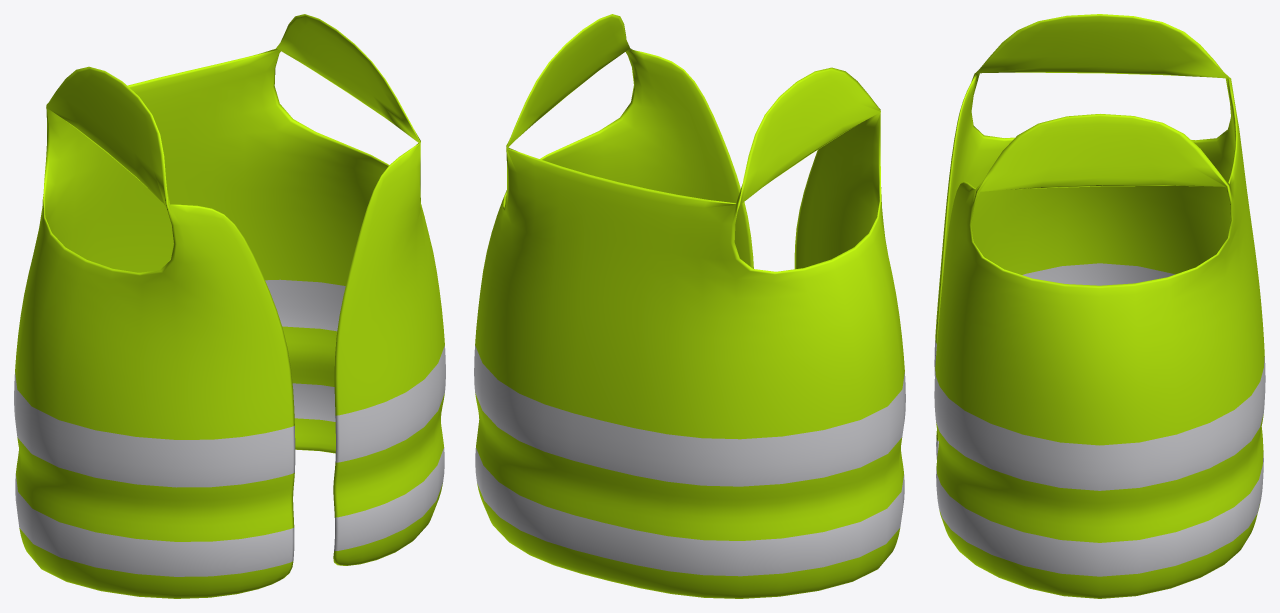
The model's file is chalecoReflejante.obj.
3 renders of one model, left to right at view 1: azimuth 30°, elevation 25°; view 2: azimuth 150°, elevation 25°; view 3: azimuth 270°, elevation 25°, orthographic. The views are drawn at different scales.
Visible parts, largest first — view 1: Chaleco_Ciclista; view 2: Chaleco_Ciclista; view 3: Chaleco_Ciclista.
Boxes of the visible parts, <box> form: Chaleco_Ciclista: <box>14,14,445,598</box>; Chaleco_Ciclista: <box>474,14,905,598</box>; Chaleco_Ciclista: <box>934,14,1265,598</box>.
Bounding box in the file's own units: 0.7528 × 0.8467 × 0.5676.
